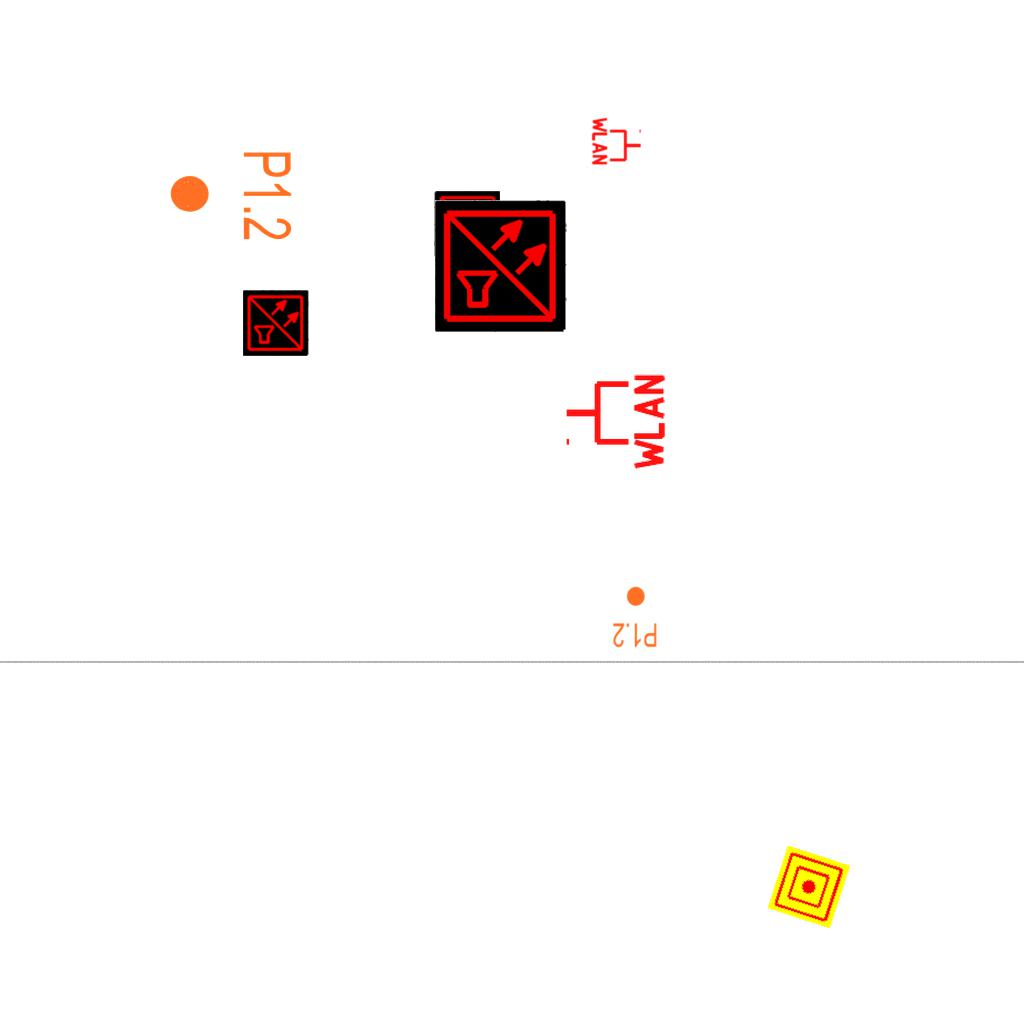Downlight_LED_Einbauleuchten_Flur: (167, 149, 295, 242), (612, 585, 658, 649)
NAM-Nichtautomatischer_Melder: (767, 845, 851, 929)
OKW_Multisensormelder_(Kombination_optischer_Rauch-Kahlenmonoxid_Waerme-Melder): (435, 200, 567, 332), (434, 191, 500, 257), (243, 290, 309, 356)
WLAN: (562, 370, 667, 474), (591, 115, 643, 167)
